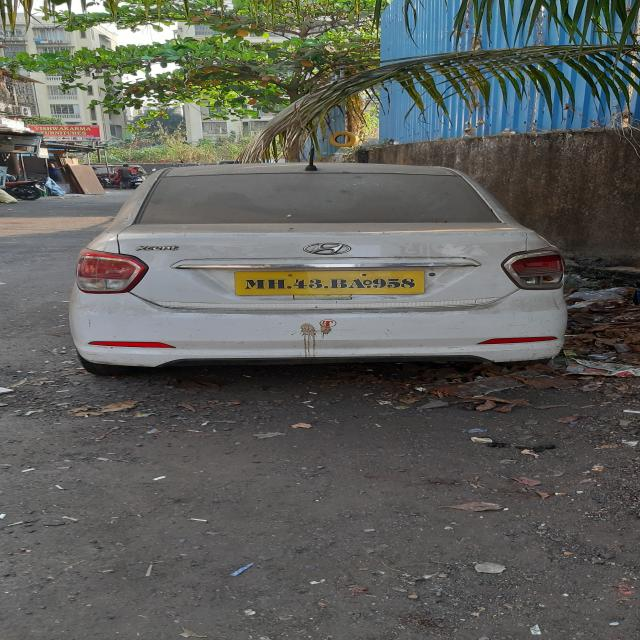Number-Plate: (238, 271, 420, 296)
